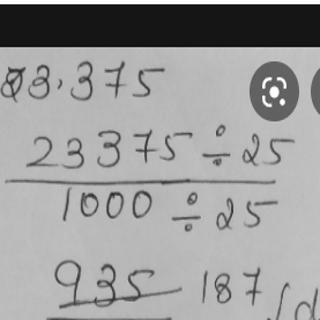.: (185, 191, 204, 210), (214, 122, 229, 140), (181, 218, 195, 237), (53, 75, 68, 92)
0: (76, 190, 100, 219), (132, 190, 153, 218), (108, 187, 123, 222)
1: (61, 184, 75, 222), (199, 270, 211, 306)
2: (27, 134, 60, 170), (1, 69, 26, 106), (216, 199, 243, 233), (243, 133, 264, 166)
3: (68, 56, 98, 102), (93, 262, 119, 308), (95, 128, 122, 167), (28, 64, 54, 101), (64, 138, 85, 171)
5: (240, 194, 277, 228), (122, 269, 156, 306), (133, 65, 166, 100), (158, 129, 191, 163), (264, 137, 293, 167)
7: (239, 264, 265, 308), (133, 127, 156, 164), (105, 61, 125, 96)
8: (212, 271, 235, 306)
9: (55, 256, 82, 307)
